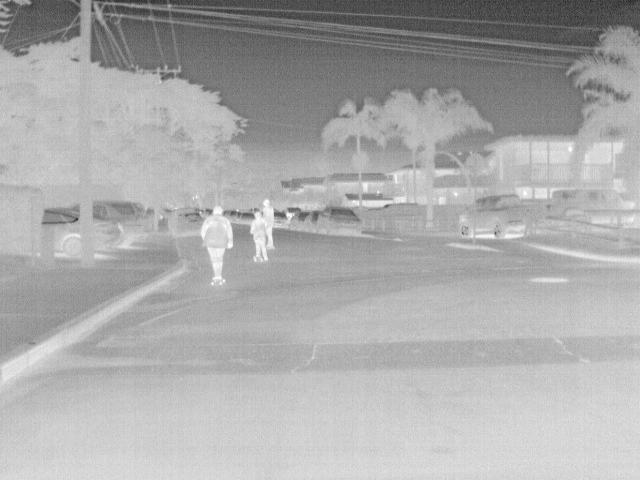car: (477, 192, 544, 240), (551, 188, 636, 220), (95, 200, 150, 239), (38, 210, 80, 256), (170, 204, 214, 236), (318, 207, 365, 235), (94, 214, 123, 255), (458, 202, 474, 236), (303, 208, 321, 231), (289, 208, 308, 228)
person: (202, 206, 235, 278), (248, 210, 270, 262), (260, 198, 277, 255)
